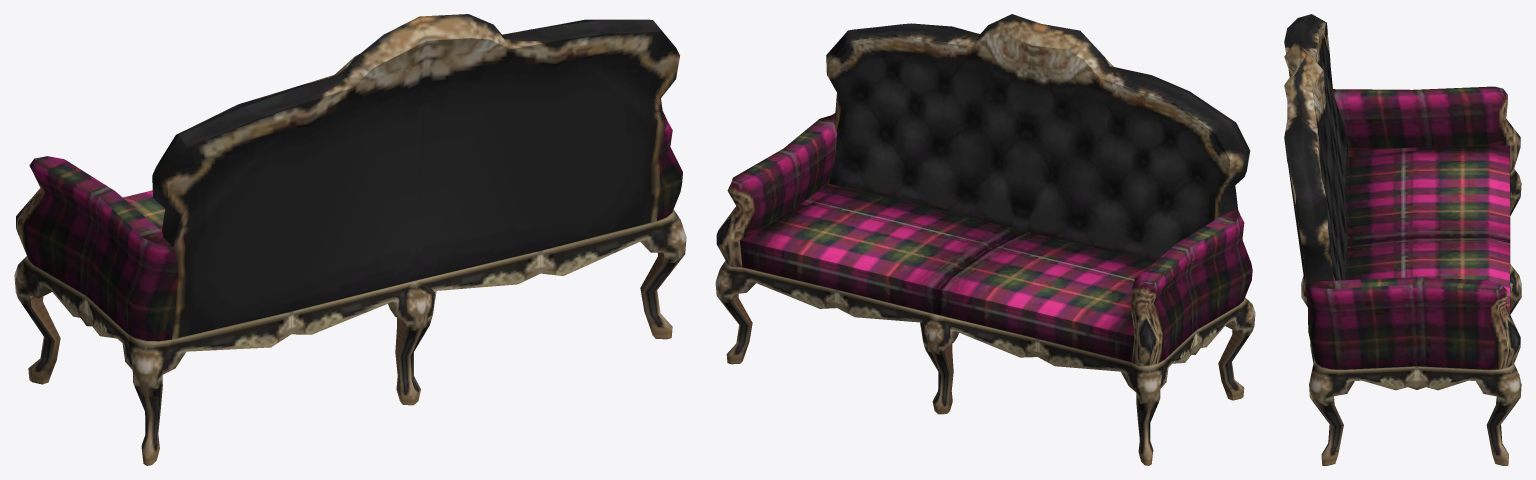
File: furni_0200311_01.FBX
3 views of the same model, side by side, from view 1: azimuth 30°, elevation 25°; view 2: azimuth 150°, elevation 25°; view 3: azimuth 270°, elevation 25° (orthographic). The views are drawn at different scales.
Parts seen in each view (by area): view 1: furni_0200311_01; view 2: furni_0200311_01; view 3: furni_0200311_01.
Part boxes in pixels (x1,y1,x2,y2): furni_0200311_01: [14, 14, 686, 465]; furni_0200311_01: [715, 14, 1255, 465]; furni_0200311_01: [1284, 14, 1521, 465].
Size of the model in its own units: 158 by 108 by 74.98.
